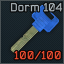Dorm room 104 key: (0, 0, 64, 64)
